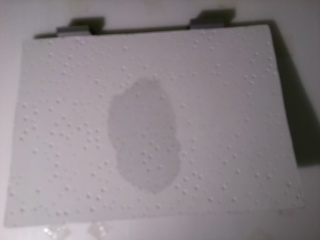Water_detected: (120, 95, 184, 183)
